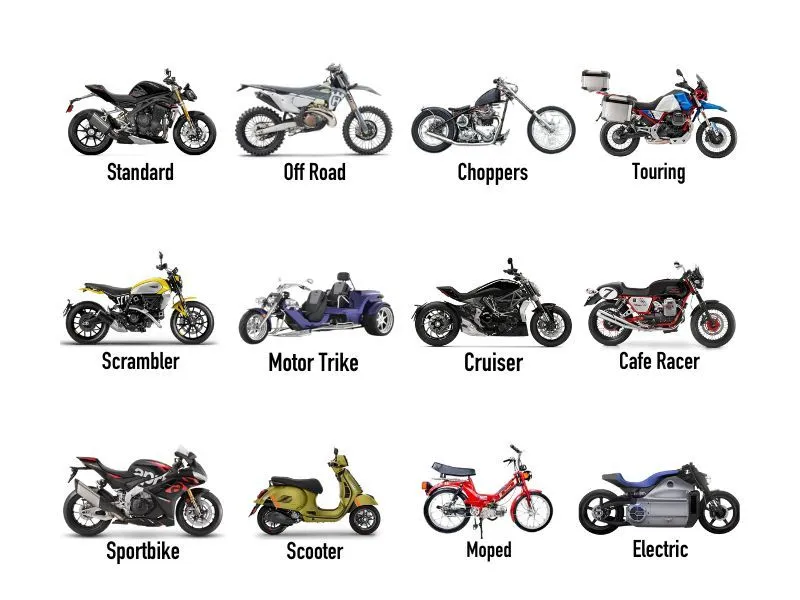vehicle: (236, 64, 391, 155), (412, 258, 571, 346), (64, 446, 221, 535), (65, 251, 213, 344), (581, 69, 735, 157), (66, 68, 215, 154), (585, 267, 735, 347), (421, 444, 551, 536), (579, 462, 740, 534), (250, 448, 380, 534), (240, 272, 393, 343), (412, 78, 517, 152), (526, 105, 574, 153)
